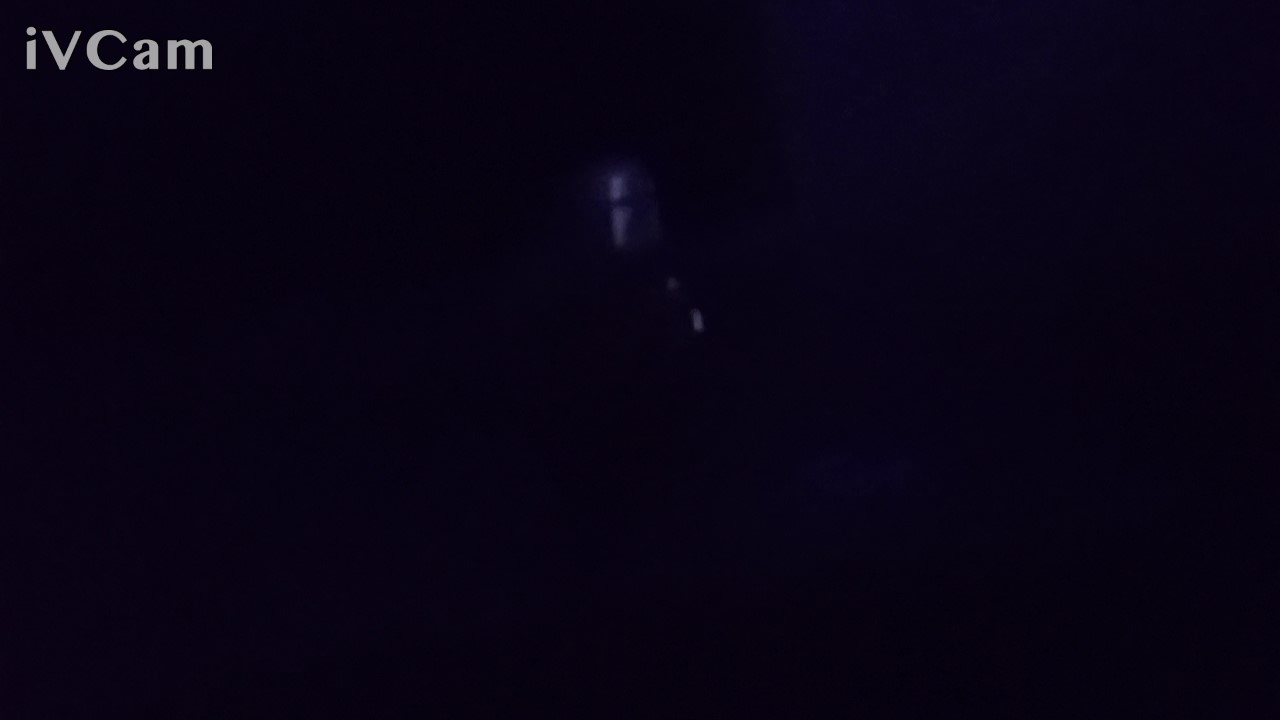mandalorian: (523, 148, 731, 542)
